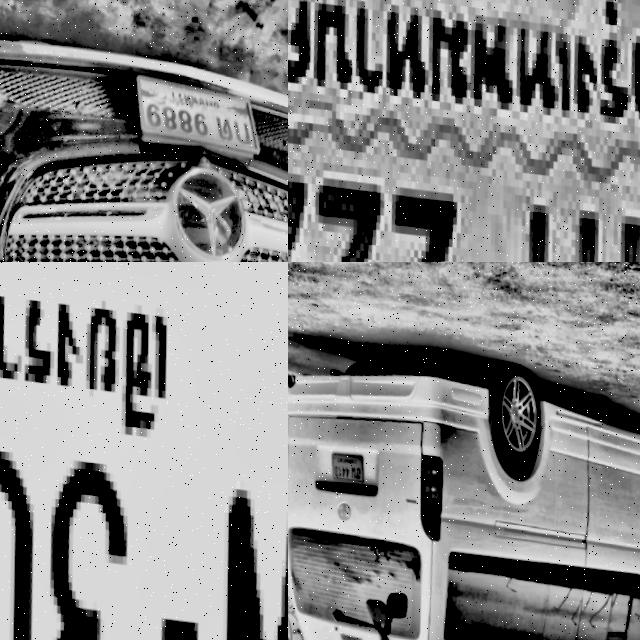license-plate: (0, 262, 288, 640), (288, 0, 640, 262), (123, 66, 266, 158), (321, 452, 364, 486)
